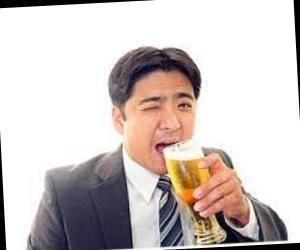Drunk: (132, 77, 195, 166)
